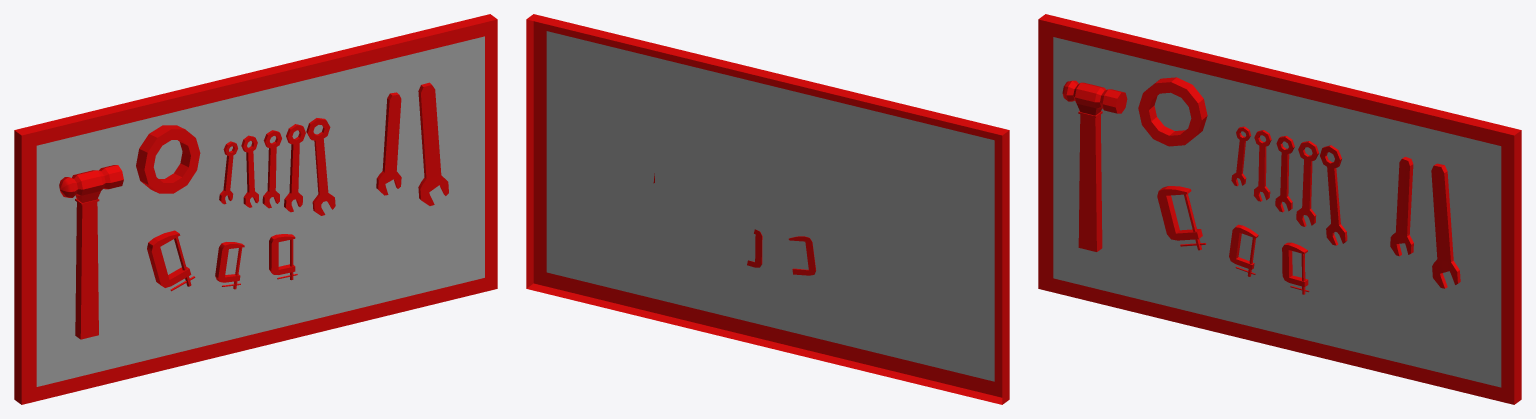
Rendered from Cosodeherramientas.fbx.
3 renders of one model, left to right at view 1: azimuth 30°, elevation 25°; view 2: azimuth 150°, elevation 25°; view 3: azimuth 330°, elevation 25°, orthographic.
Parts seen in each view (by area): view 1: TABLERO; view 2: TABLERO; view 3: TABLERO.
Boxes of the visible parts, <box> form: TABLERO: <box>14,14,497,404</box>; TABLERO: <box>526,14,1009,404</box>; TABLERO: <box>1038,14,1521,404</box>.
Size of the model in its own units: 72.32 by 39.11 by 5.22.
